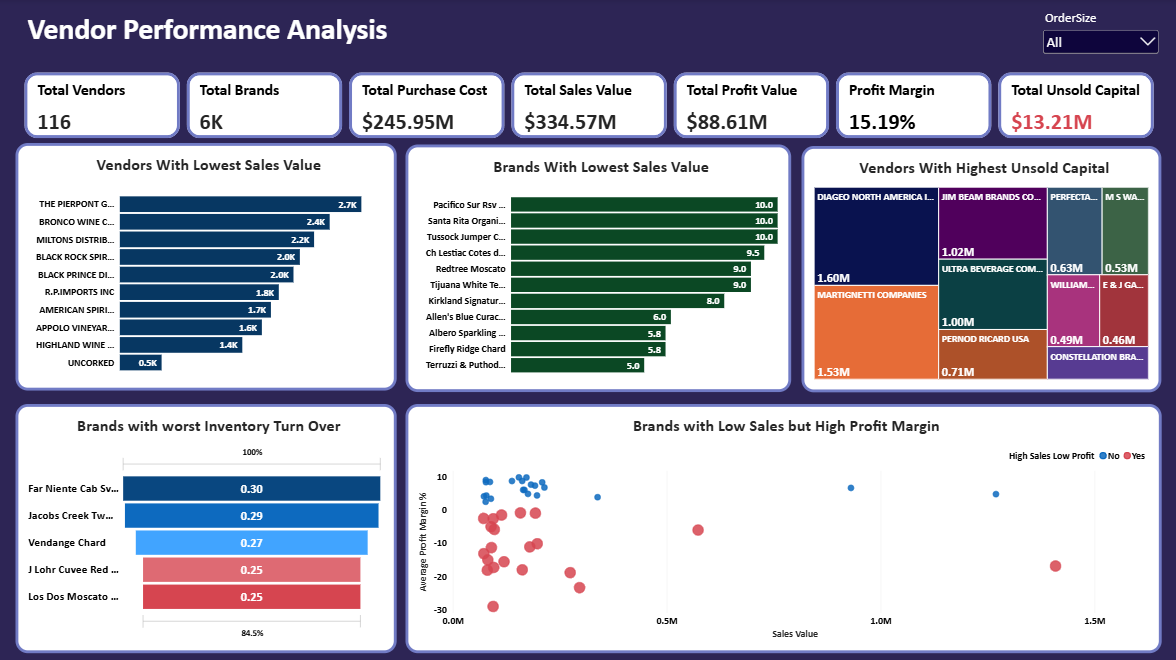

The page's visual inventory and layout, read from the dashboard file:
{"tool":"powerbi","page":{"name":"Page 2","canvas":[1920,1080],"ordinal":1},"visuals":[{"type":"textbox","box":[46.4,19.5,710,65.9],"z":0},{"type":"cardVisual","fields":{"Data":["final_vendor_performance_summary.unique_vendors","final_vendor_performance_summary.unique_brands","final_vendor_performance_summary.total_purchase_value","final_vendor_performance_summary.total_Sales_value","final_vendor_performance_summary.total_profit_value","final_vendor_performance_summary.profit_margin","final_vendor_performance_summary.UnsoldCapital"]},"box":[29.3,107.4,1861.6,131.8],"z":1000},{"type":"clusteredBarChart","title":"Brands With Lowest Sales Value","fields":{"Category":["final_vendor_performance_summary.Description"],"Y":["Sum(final_vendor_performance_summary.TotalSalesDollars)"]},"box":[661.5,235.9,627,402.7],"z":2000,"group":"g2"},{"type":"scatterChart","title":"Brands with Low Sales but High Profit Margin","fields":{"Category":["final_vendor_performance_summary.Description"],"Series":["brandPerformance.HighSalesLowProfit"],"Size":["Avg(brandPerformance.TotalSalesDollars)"],"X":["Sum(final_vendor_performance_summary.TotalSalesDollars)"],"Y":["final_vendor_performance_summary.ProfitMargin"]},"box":[661.2,658.8,1229.7,405],"z":2000},{"type":"group","id":"g1","title":"Group 2","box":[26.8,658.8,619.7,405],"z":3000},{"type":"clusteredBarChart","title":"Vendors With Lowest Sales Value","fields":{"Category":["final_vendor_performance_summary.VendorName"],"Y":["Sum(final_vendor_performance_summary.TotalSalesDollars)"]},"box":[26.8,234.2,619.7,402.8],"z":4000,"group":"g2"},{"type":"group","id":"g2","title":"Group 1","box":[26.8,234.2,1864,405],"z":4000},{"type":"funnel","title":"Brands with worst Inventory Turn Over","fields":{"Category":["brandslowturnover.Description"],"Y":["Avg(brandslowturnover.AvgStockTurnover)"]},"box":[26.8,658.8,619.7,405],"z":5000,"group":"g1"},{"type":"slicer","fields":{"Values":["final_vendor_performance_summary.OrderSize"]},"box":[1693.2,17.1,197.6,87.8],"z":6000},{"type":"treemap","title":"Vendors With Highest Unsold Capital","fields":{"Group":["final_vendor_performance_summary.VendorName"],"Values":["Sum(final_vendor_performance_summary.UnsoldInventoryValue)"]},"box":[1305.3,238.6,585.6,400.7],"z":6000,"group":"g2"}]}

Visuals, with their boxes in screenshot pixels (x1, y1, x2, y2), scaled from the page's 1920x1080 canvas onto the 1176x660 screenshot:
textbox: select_region(28, 12, 463, 52)
cardVisual - final_vendor_performance_summary.unique_vendors x final_vendor_performance_summary.unique_brands: select_region(18, 66, 1158, 146)
"Brands With Lowest Sales Value" clusteredBarChart: select_region(405, 144, 789, 390)
"Brands with Low Sales but High Profit Margin" scatterChart: select_region(405, 403, 1158, 650)
"Group 2" group: select_region(16, 403, 396, 650)
"Vendors With Lowest Sales Value" clusteredBarChart: select_region(16, 143, 396, 389)
"Group 1" group: select_region(16, 143, 1158, 391)
"Brands with worst Inventory Turn Over" funnel: select_region(16, 403, 396, 650)
slicer - final_vendor_performance_summary.OrderSize: select_region(1037, 10, 1158, 64)
"Vendors With Highest Unsold Capital" treemap: select_region(799, 146, 1158, 391)
